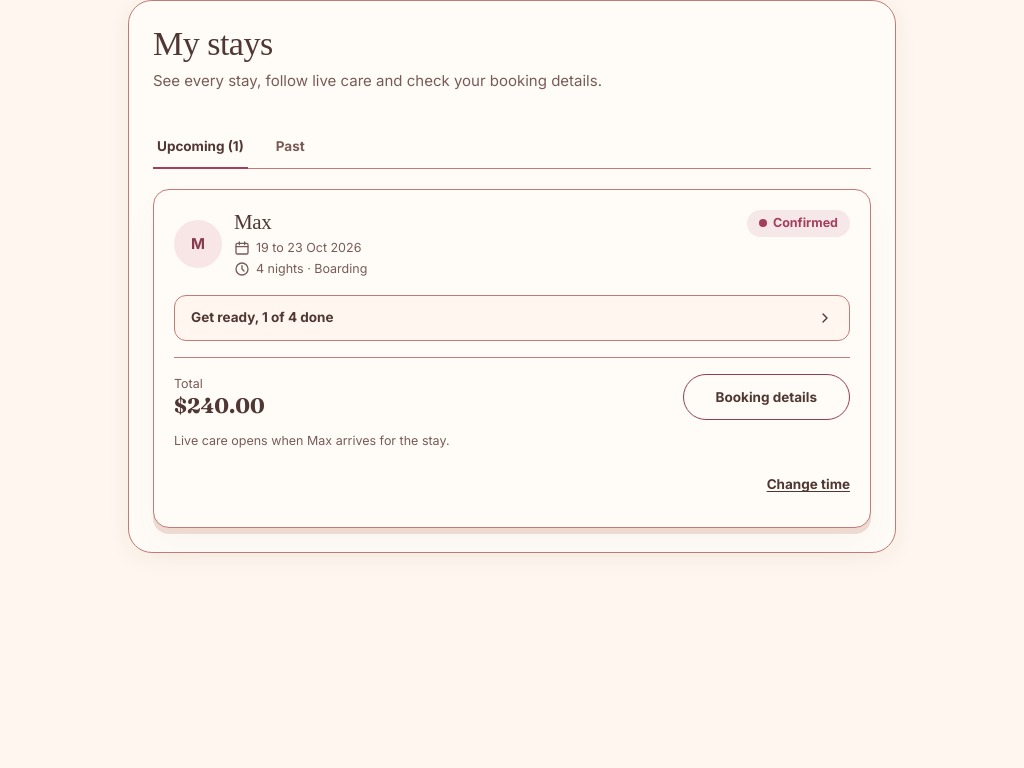
it: Get ready on My stays › shows open medication as our team's job, with no link the parent cannot use
Click the heading "Get ready, 1 of 4 done" at (262, 317), box [191,310,833,326]
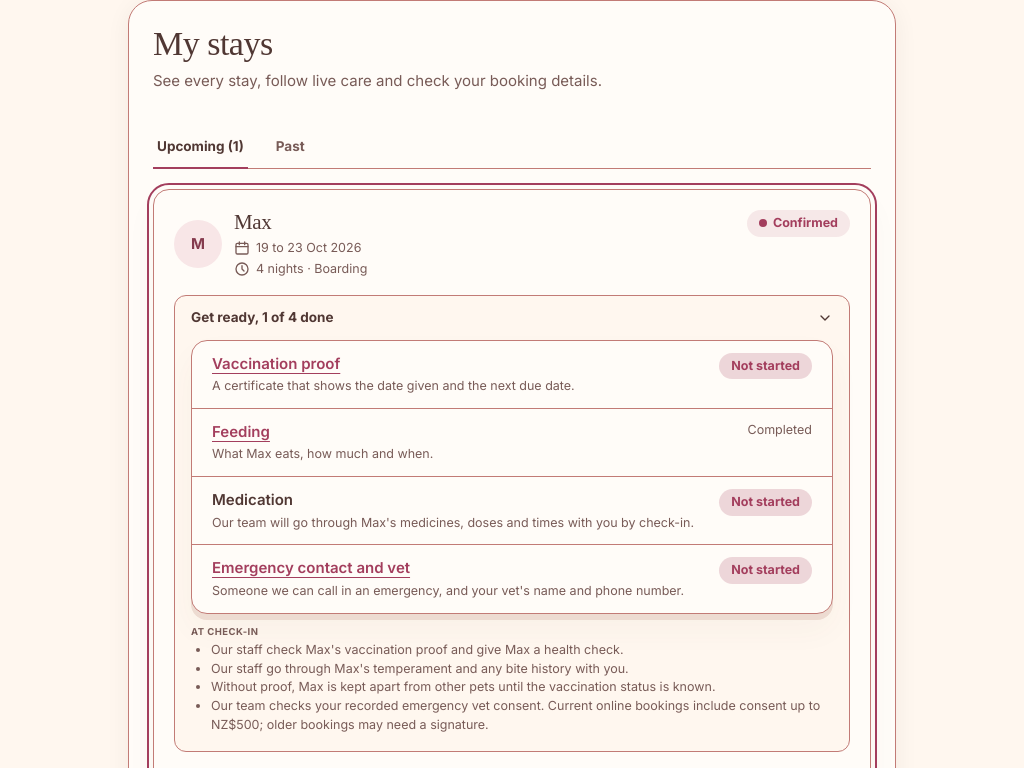
expect the text "Medication" is shown: met, box [212,490,293,509]
expect the text "Our team will go through Max's medicines, doses and times with you by check-in." is shown: met, box [212,514,694,532]
